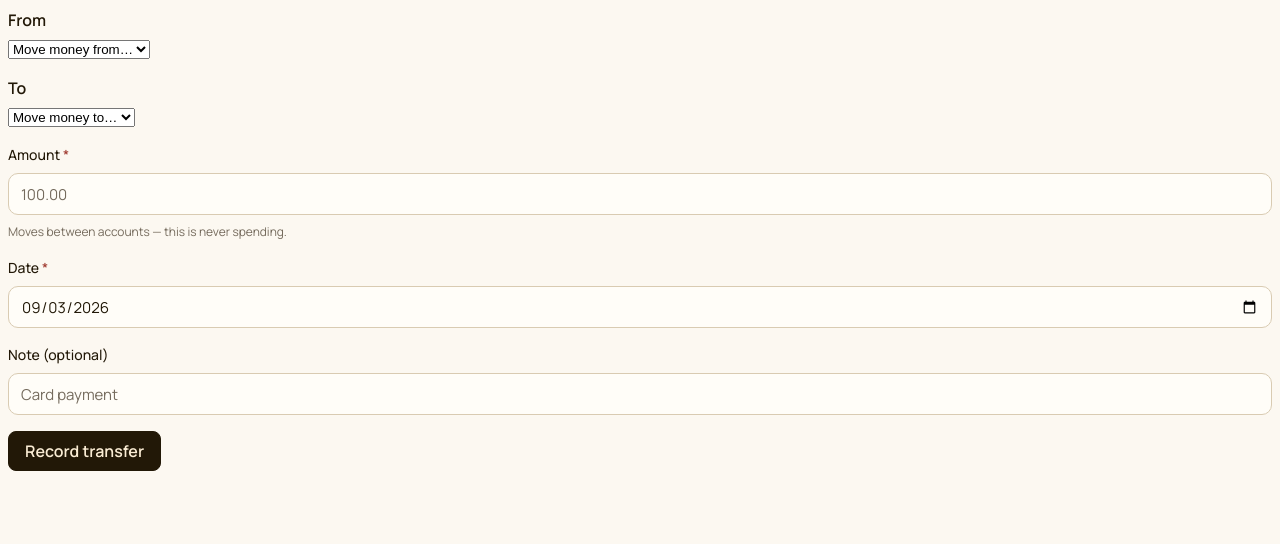
Test: TransferForm › submits the two accounts and the amount
Step 1. Select "Everyday" in the dropdown labelled "From" → (79, 50), box [8,40,150,59]
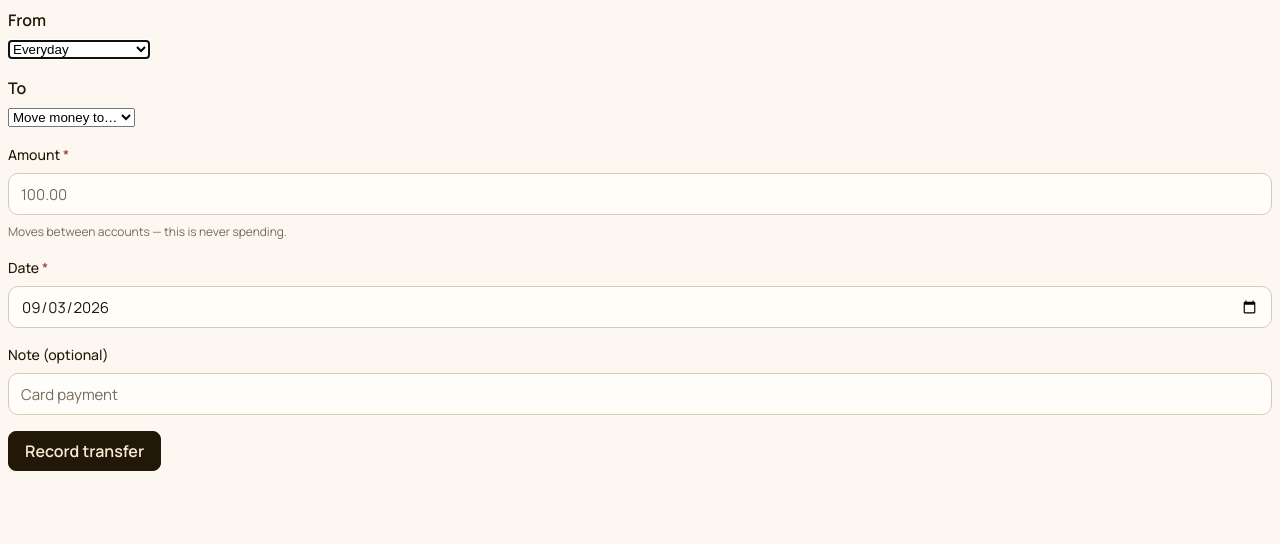
Step 2. Select "Wallet" in the dropdown labelled "To" → (72, 118), box [8,108,135,127]
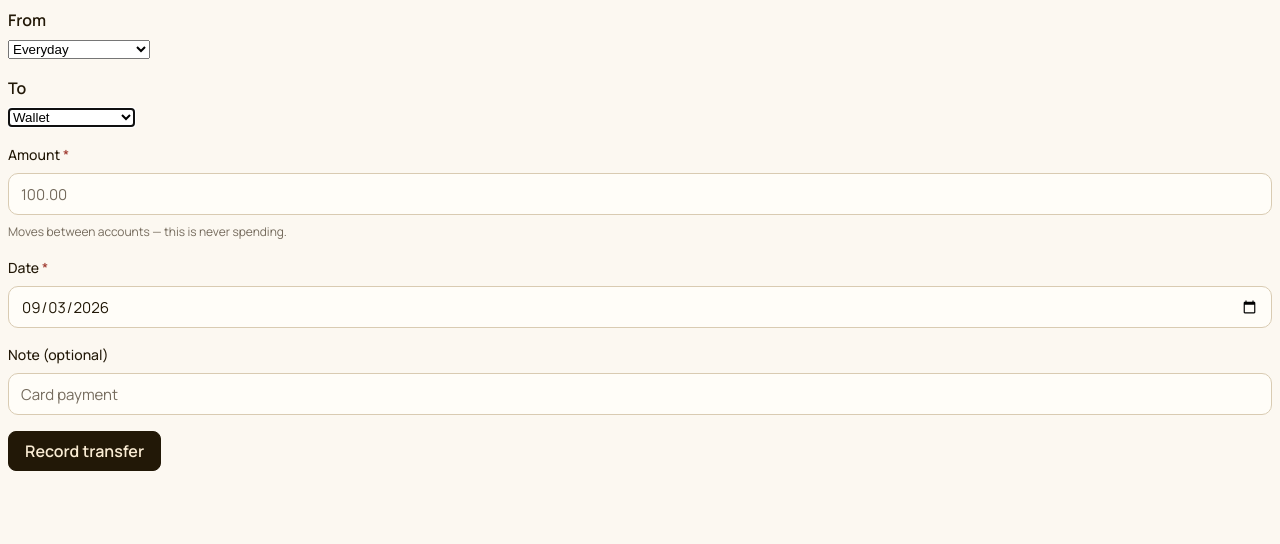
Step 3. Type "40.00" into the field labelled "Amount *" → (640, 194), box [8,173,1272,215]
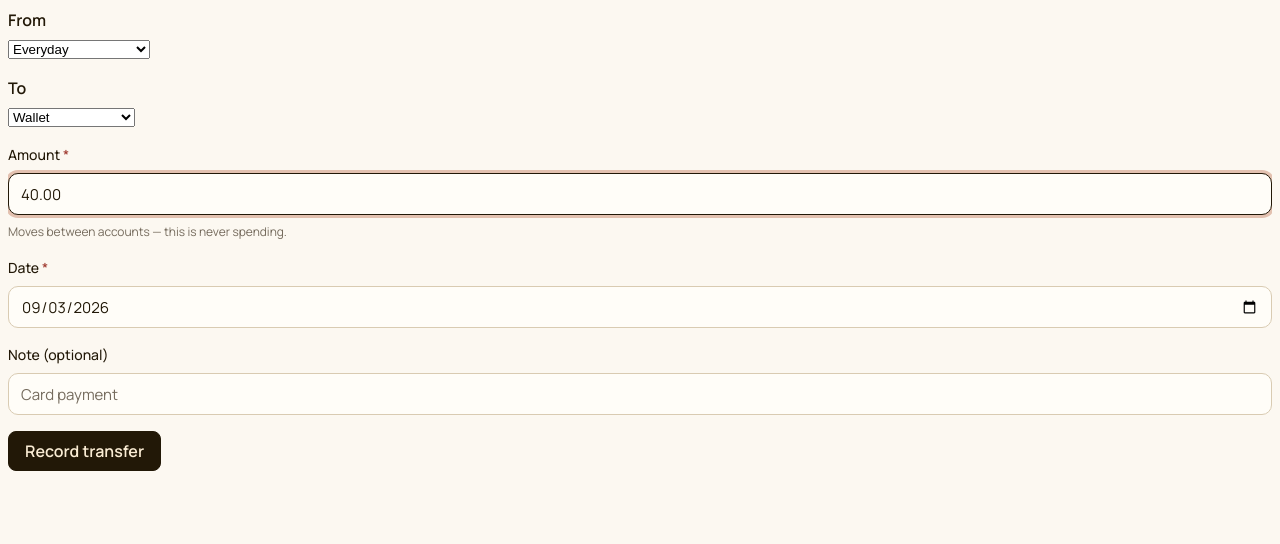
Step 4. Click the button "Record transfer" → (85, 451), box [8,431,161,471]
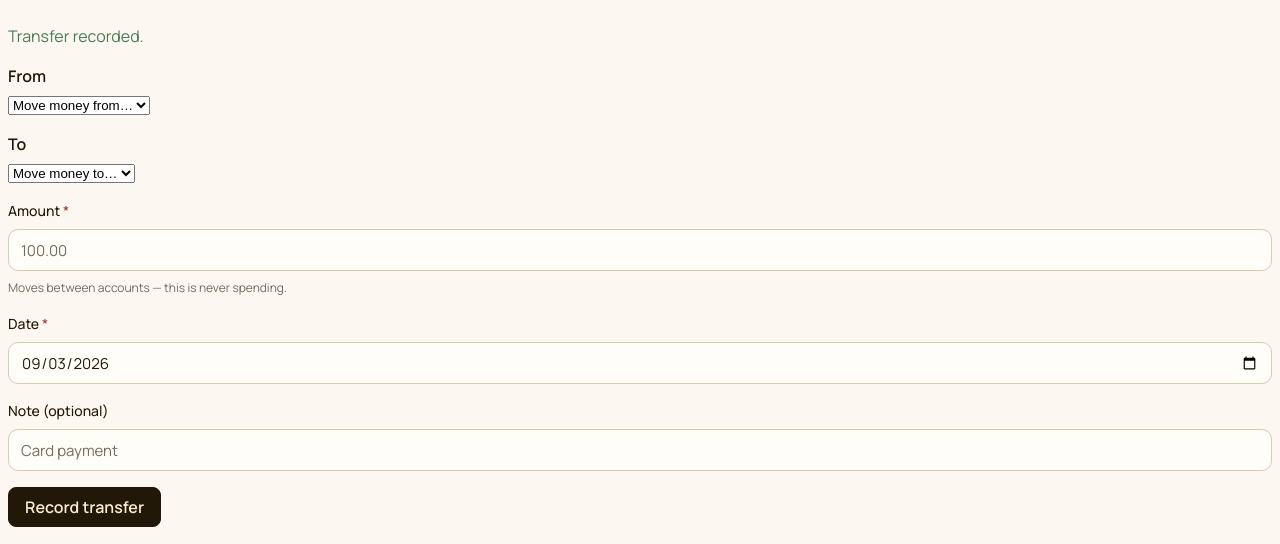
Expected: the message reads "Transfer recorded.", [8,25,144,47]
